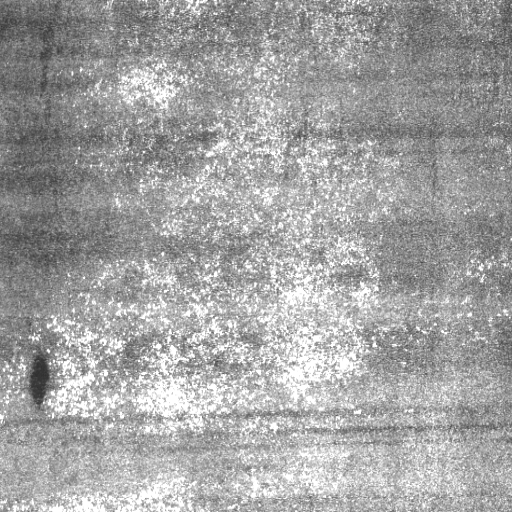aokeng: (25, 352, 50, 411)
